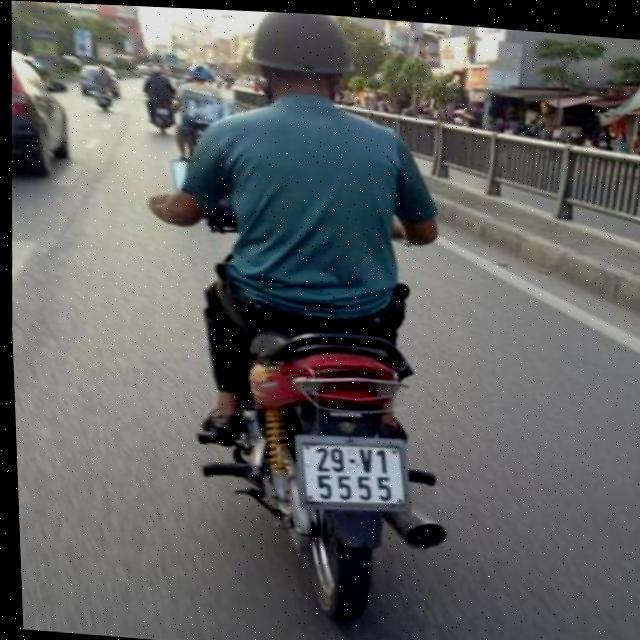motorcycle: (216, 308, 472, 640)
plate: (288, 433, 413, 516)
